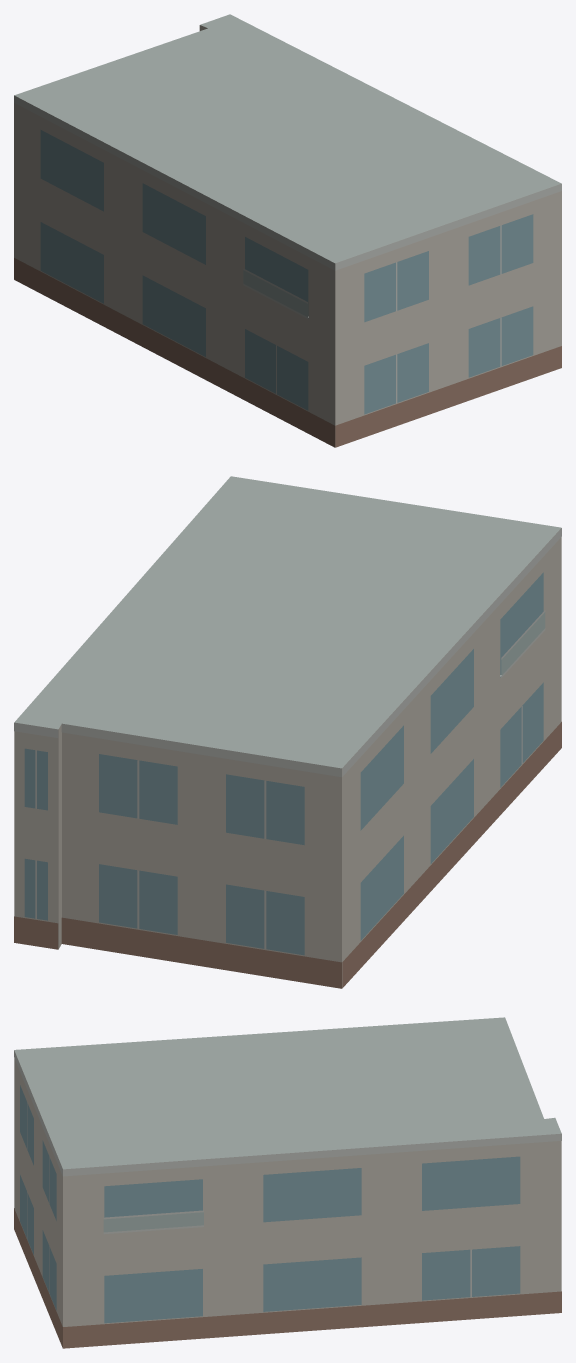
File: survey-upis-32574333.glb
The picture shows the model from 3 angles, top to bottom: view 1: azimuth 30°, elevation 25°; view 2: azimuth 150°, elevation 25°; view 3: azimuth 270°, elevation 25°; orthographic projection. The views are drawn at different scales.
Parts seen in each view (by area): view 1: survey-upis-32574333.tmp; view 2: survey-upis-32574333.tmp; view 3: survey-upis-32574333.tmp.
Boxes of the visible parts, <box> form: survey-upis-32574333.tmp: <box>14,14,561,447</box>; survey-upis-32574333.tmp: <box>14,476,561,988</box>; survey-upis-32574333.tmp: <box>14,1017,561,1348</box>.
Size of the model in its own units: 11.11 by 6.1 by 16.91.
